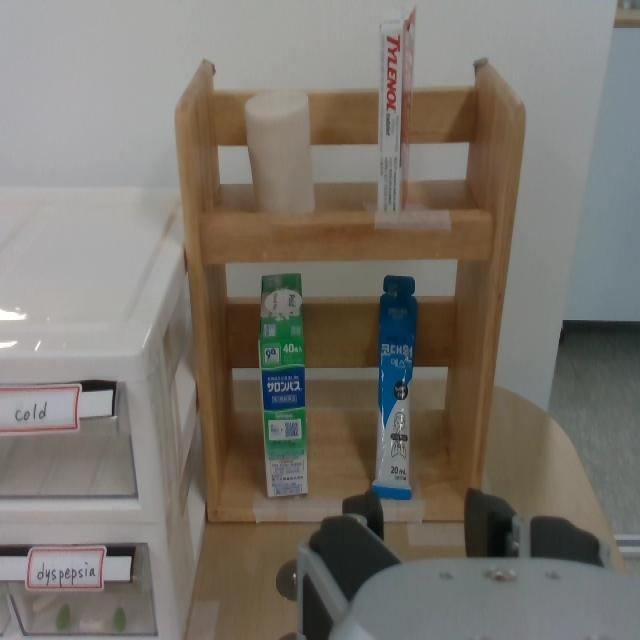bandage: (244, 92, 314, 216)
codaewon_syrup: (377, 275, 418, 500)
sore_patch: (259, 276, 310, 495)
tylenol: (378, 10, 418, 222)
